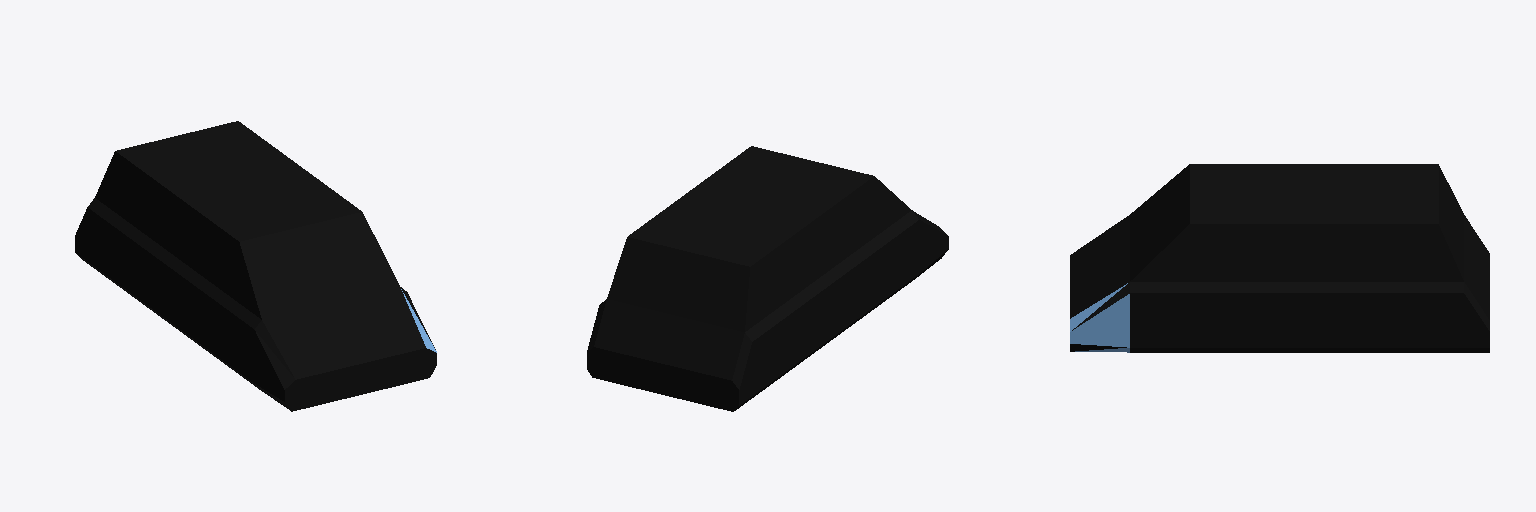
The model's file is vehicle_minivan_simple.obj.
The picture shows the model from 3 angles: view 1: azimuth 30°, elevation 25°; view 2: azimuth 150°, elevation 25°; view 3: azimuth 270°, elevation 25°; orthographic projection.
Size of the model in its own units: 2.06 by 1.6 by 4.9.